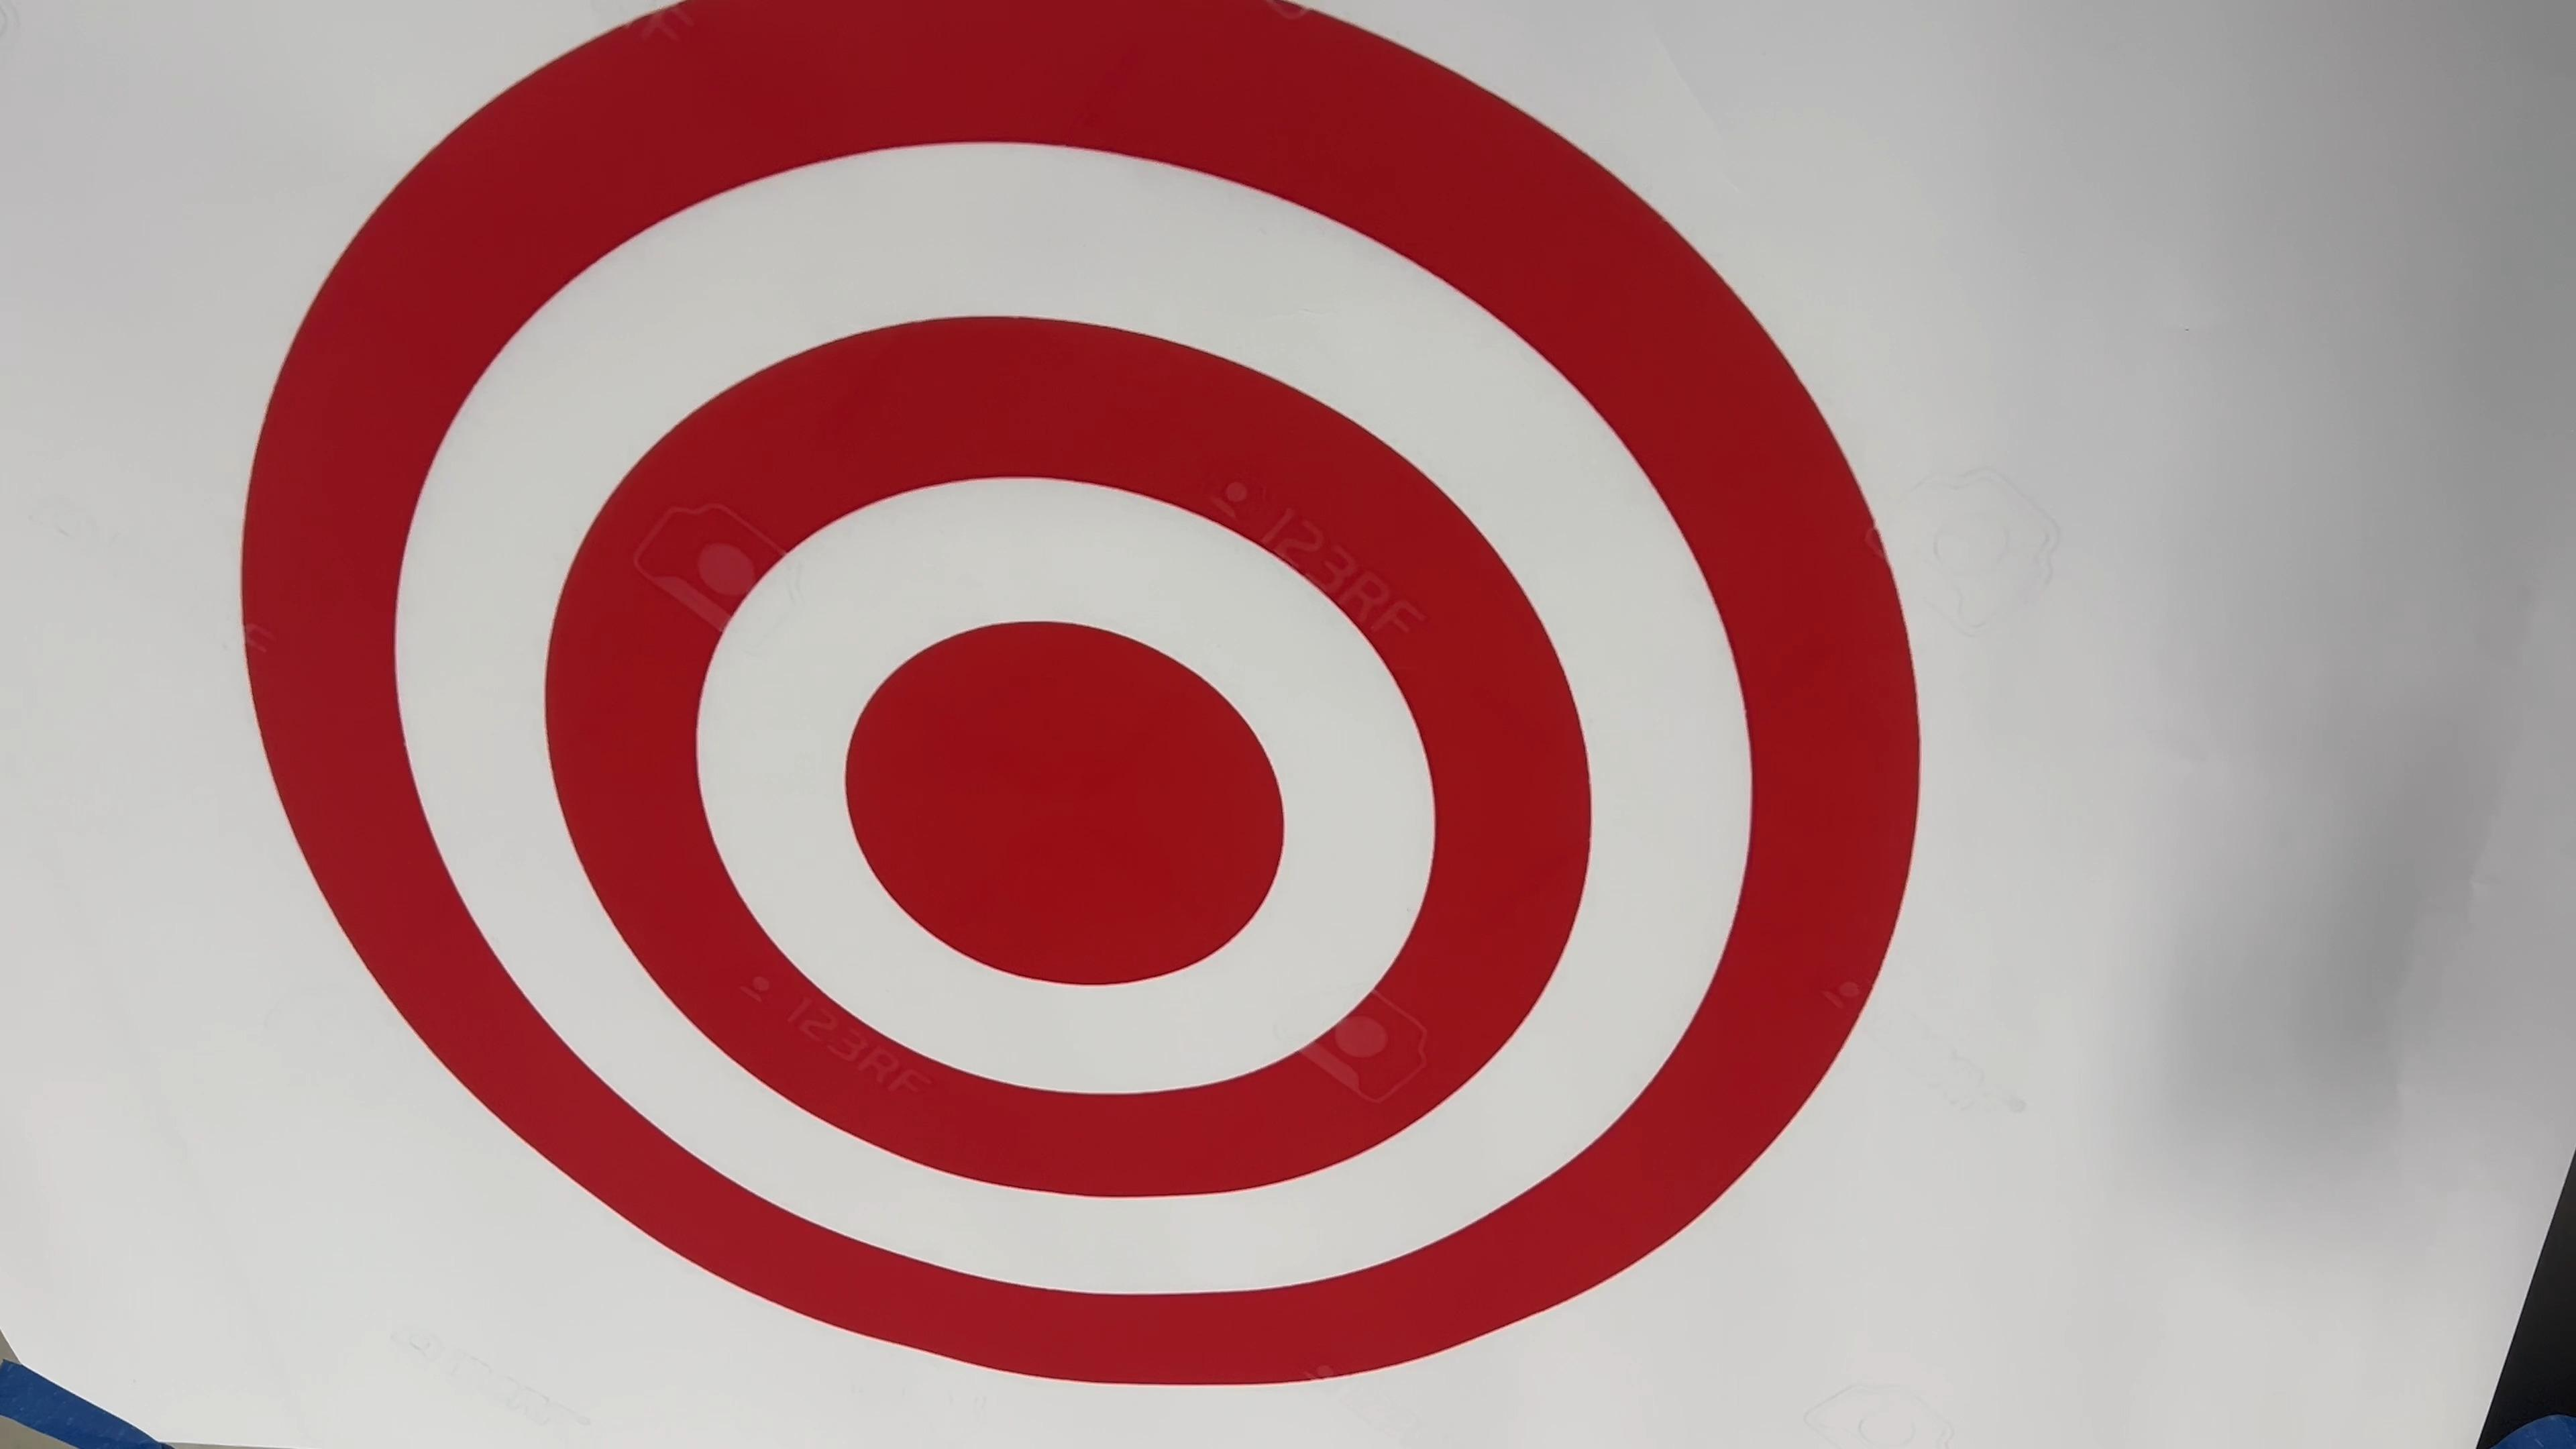target_red: (223, 0, 1967, 1373)
